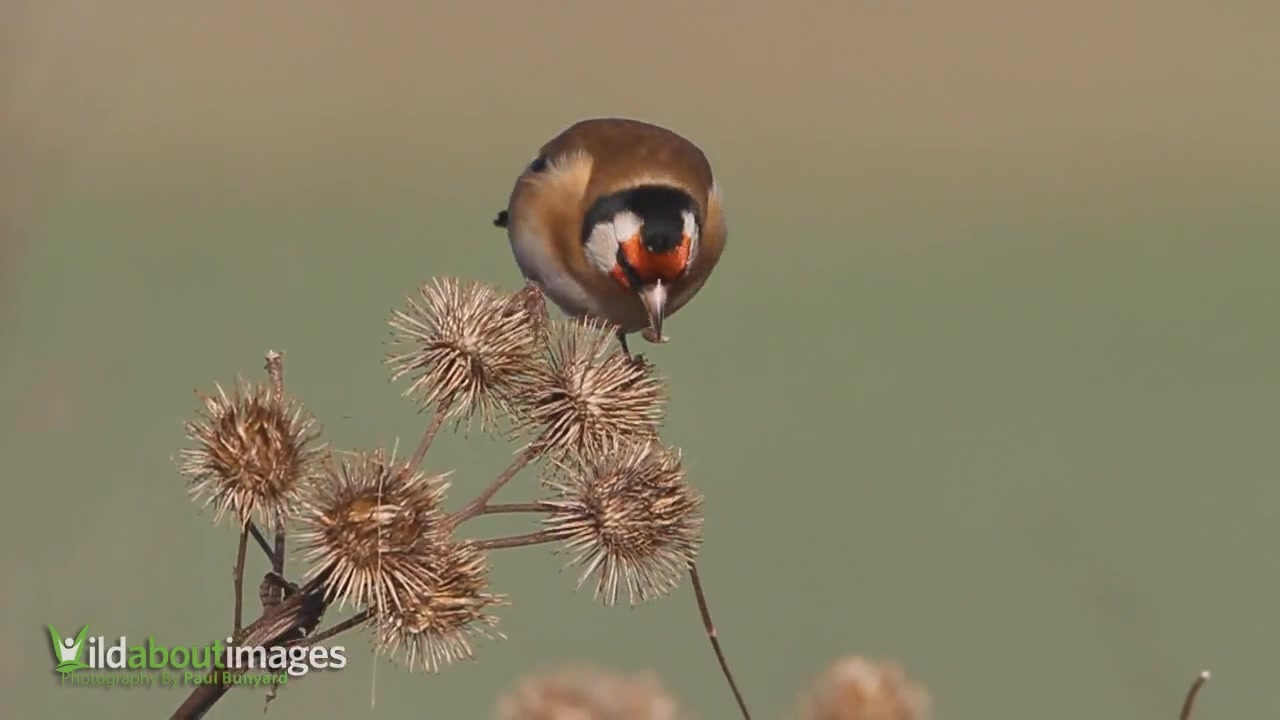bird: (493, 118, 728, 357)
